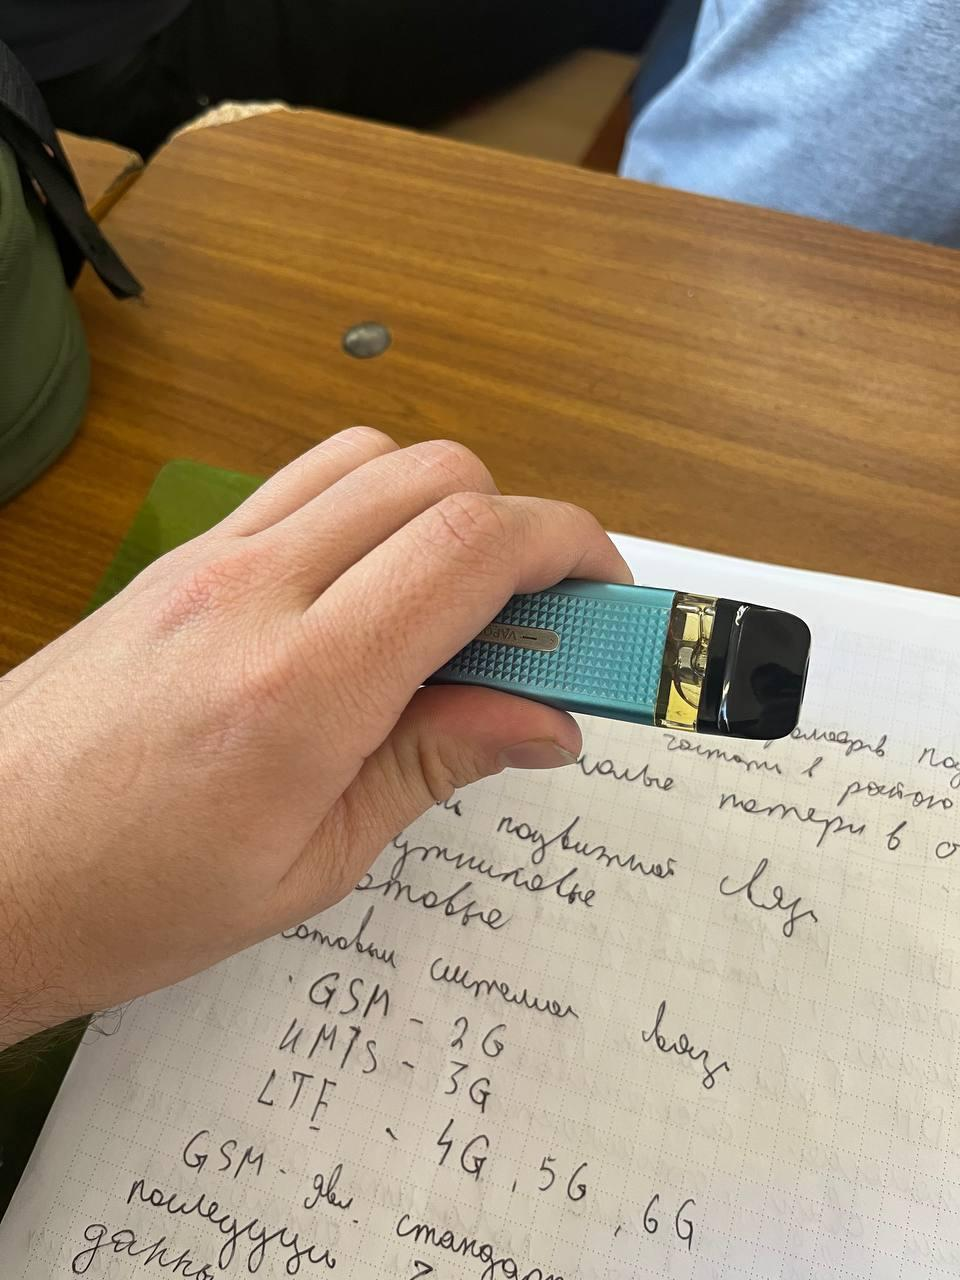Vape: (427, 580, 809, 740)
